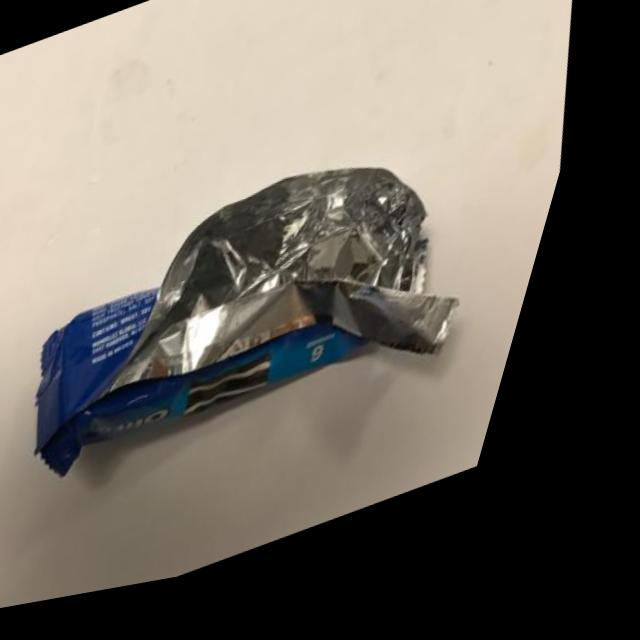trash: (0, 90, 572, 581)
